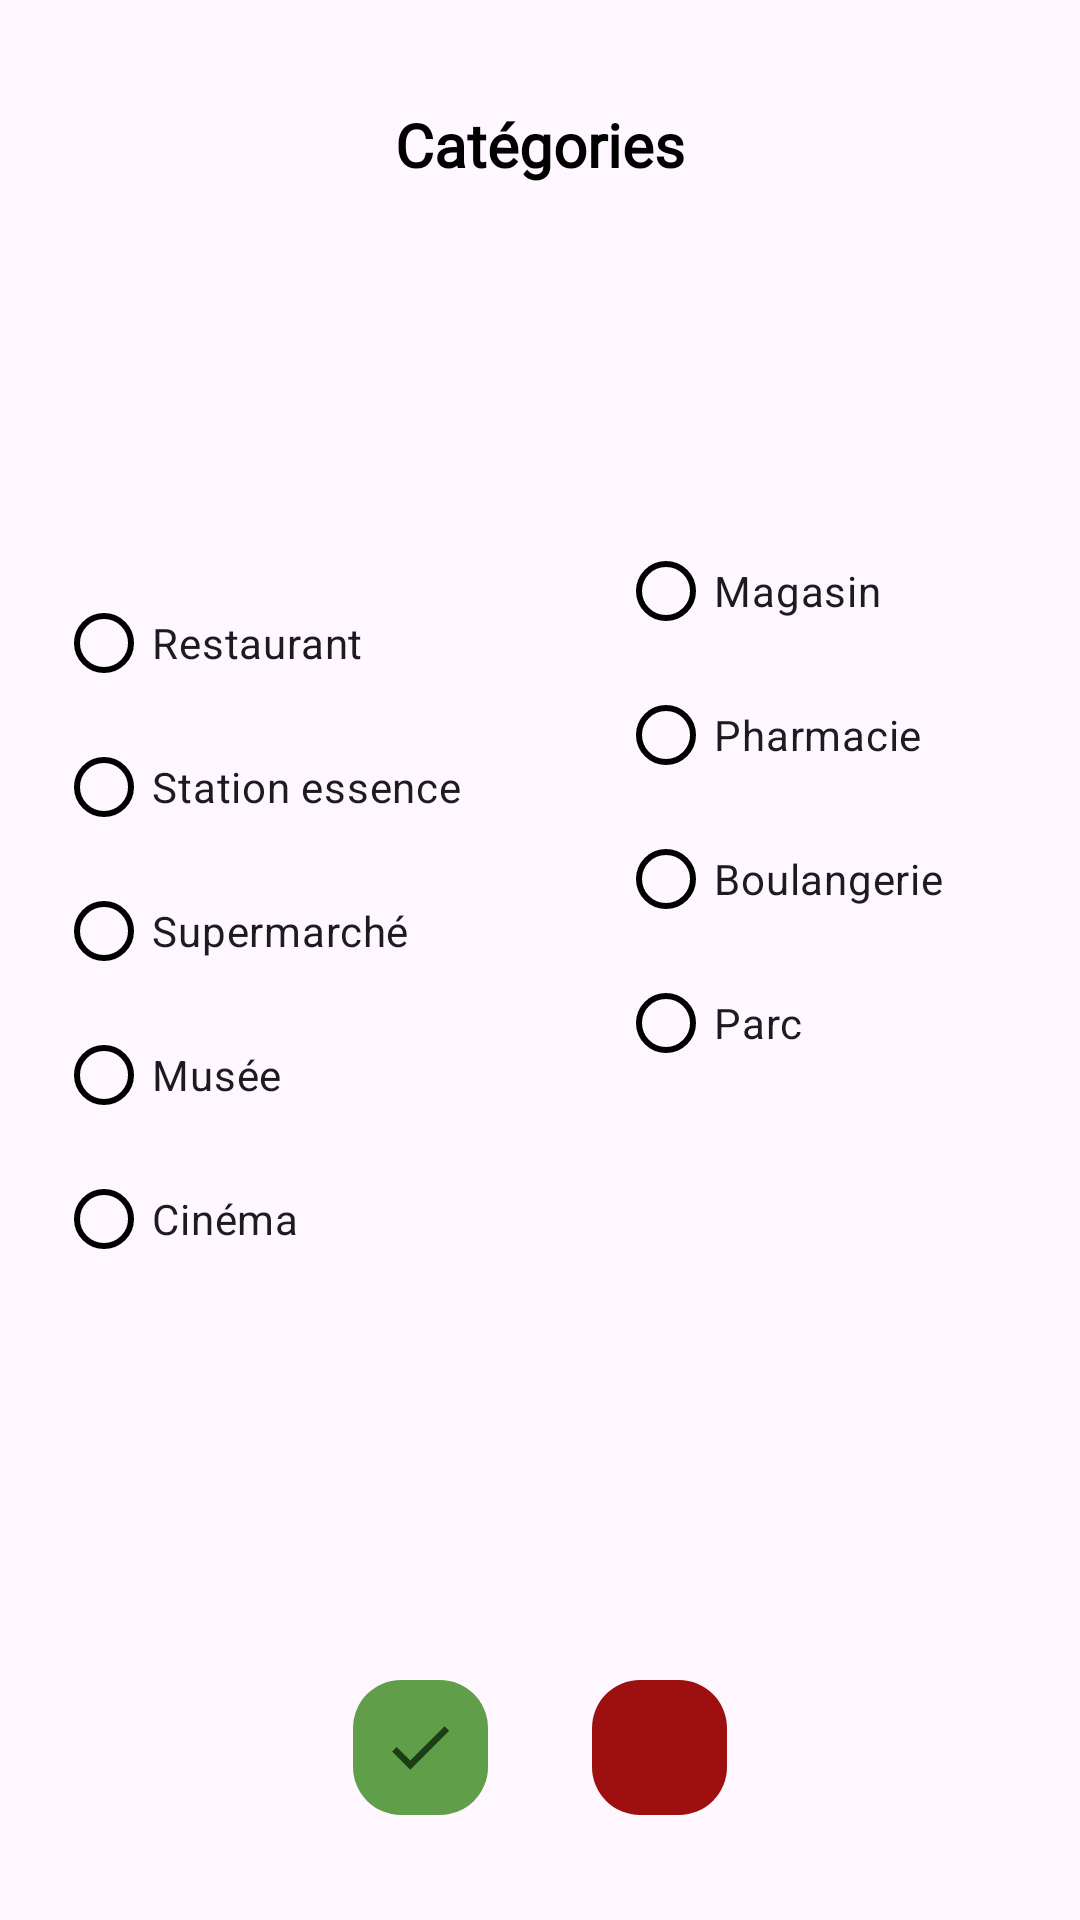

Screen size 1080*1920. Icon name, then its center in pixels as (x,y):
Bouton de validation: (420,1747)
